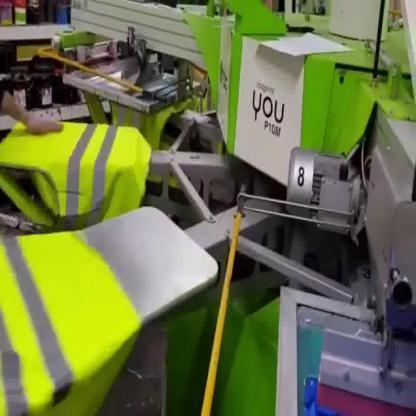vest: (1, 228, 143, 415), (0, 118, 154, 237)
